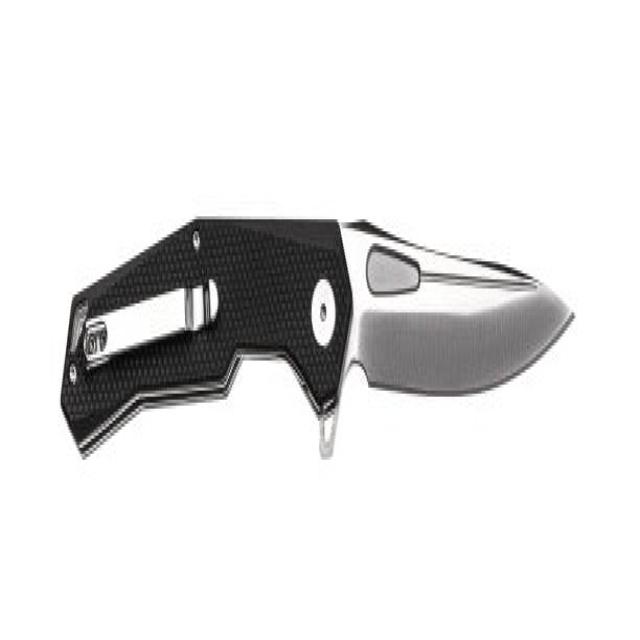knife: (47, 190, 573, 508)
